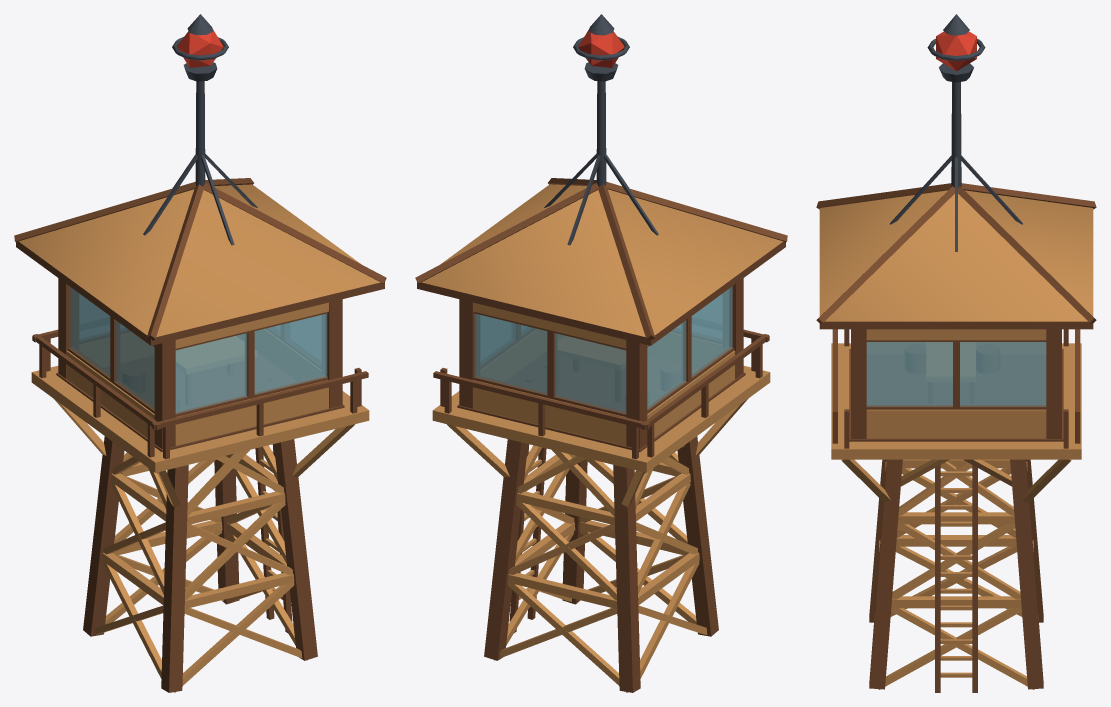
The model's file is Kule 1.fbx.
3 views of the same model, side by side, from view 1: azimuth 30°, elevation 25°; view 2: azimuth 150°, elevation 25°; view 3: azimuth 270°, elevation 25° (orthographic).
Visible parts, largest first — view 1: roof_pyramid, window_1, platform_deck, window_2, leg_4, leg_1, cabin_floor, leg_3, wall_sill_1, roof_fascia, cabin_post_4, cabin_post_1 (+38 smaller); view 2: roof_pyramid, window_3, platform_deck, window_2, leg_3, cabin_floor, leg_2, leg_4, wall_sill_3, roof_fascia, cabin_post_3, cabin_post_2 (+38 smaller); view 3: roof_pyramid, window_0, cabin_floor, platform_deck, wall_sill_0, leg_1, leg_2, roof_fascia, wall_header_0, cabin_post_1, cabin_post_2, table_top (+36 smaller).
Boxes of the visible parts, box(x1,y1,x2,y2) form: roof_pyramid: box(19, 184, 380, 336); window_1: box(175, 313, 327, 413); platform_deck: box(31, 366, 369, 472); window_2: box(69, 286, 154, 409); leg_4: box(161, 465, 188, 692); leg_1: box(274, 439, 317, 660); cabin_floor: box(56, 353, 344, 451); leg_3: box(83, 436, 124, 636); wall_sill_1: box(175, 380, 328, 445); roof_fascia: box(16, 241, 384, 345); cabin_post_4: box(154, 340, 175, 449); cabin_post_1: box(322, 299, 342, 408); roof_pyramid: box(421, 184, 782, 336); window_3: box(474, 313, 626, 413); platform_deck: box(432, 366, 770, 472); window_2: box(647, 286, 732, 409); leg_3: box(613, 465, 640, 692); cabin_floor: box(457, 351, 745, 451); leg_2: box(484, 439, 527, 660); leg_4: box(677, 436, 718, 636); wall_sill_3: box(473, 380, 626, 445); roof_fascia: box(417, 241, 785, 345); cabin_post_3: box(626, 340, 647, 449); cabin_post_2: box(459, 299, 479, 408); roof_pyramid: box(819, 190, 1093, 321); window_0: box(866, 342, 1046, 406); cabin_floor: box(849, 349, 1063, 441); platform_deck: box(831, 343, 1081, 459); wall_sill_0: box(866, 409, 1046, 438); leg_1: box(869, 459, 902, 689); leg_2: box(1010, 459, 1043, 689); roof_fascia: box(819, 321, 1093, 329); wall_header_0: box(866, 329, 1046, 340); cabin_post_1: box(851, 329, 866, 438); cabin_post_2: box(1046, 329, 1061, 438); table_top: box(927, 342, 975, 381).
Size of the model in its own units: 537 by 1356 by 537.
